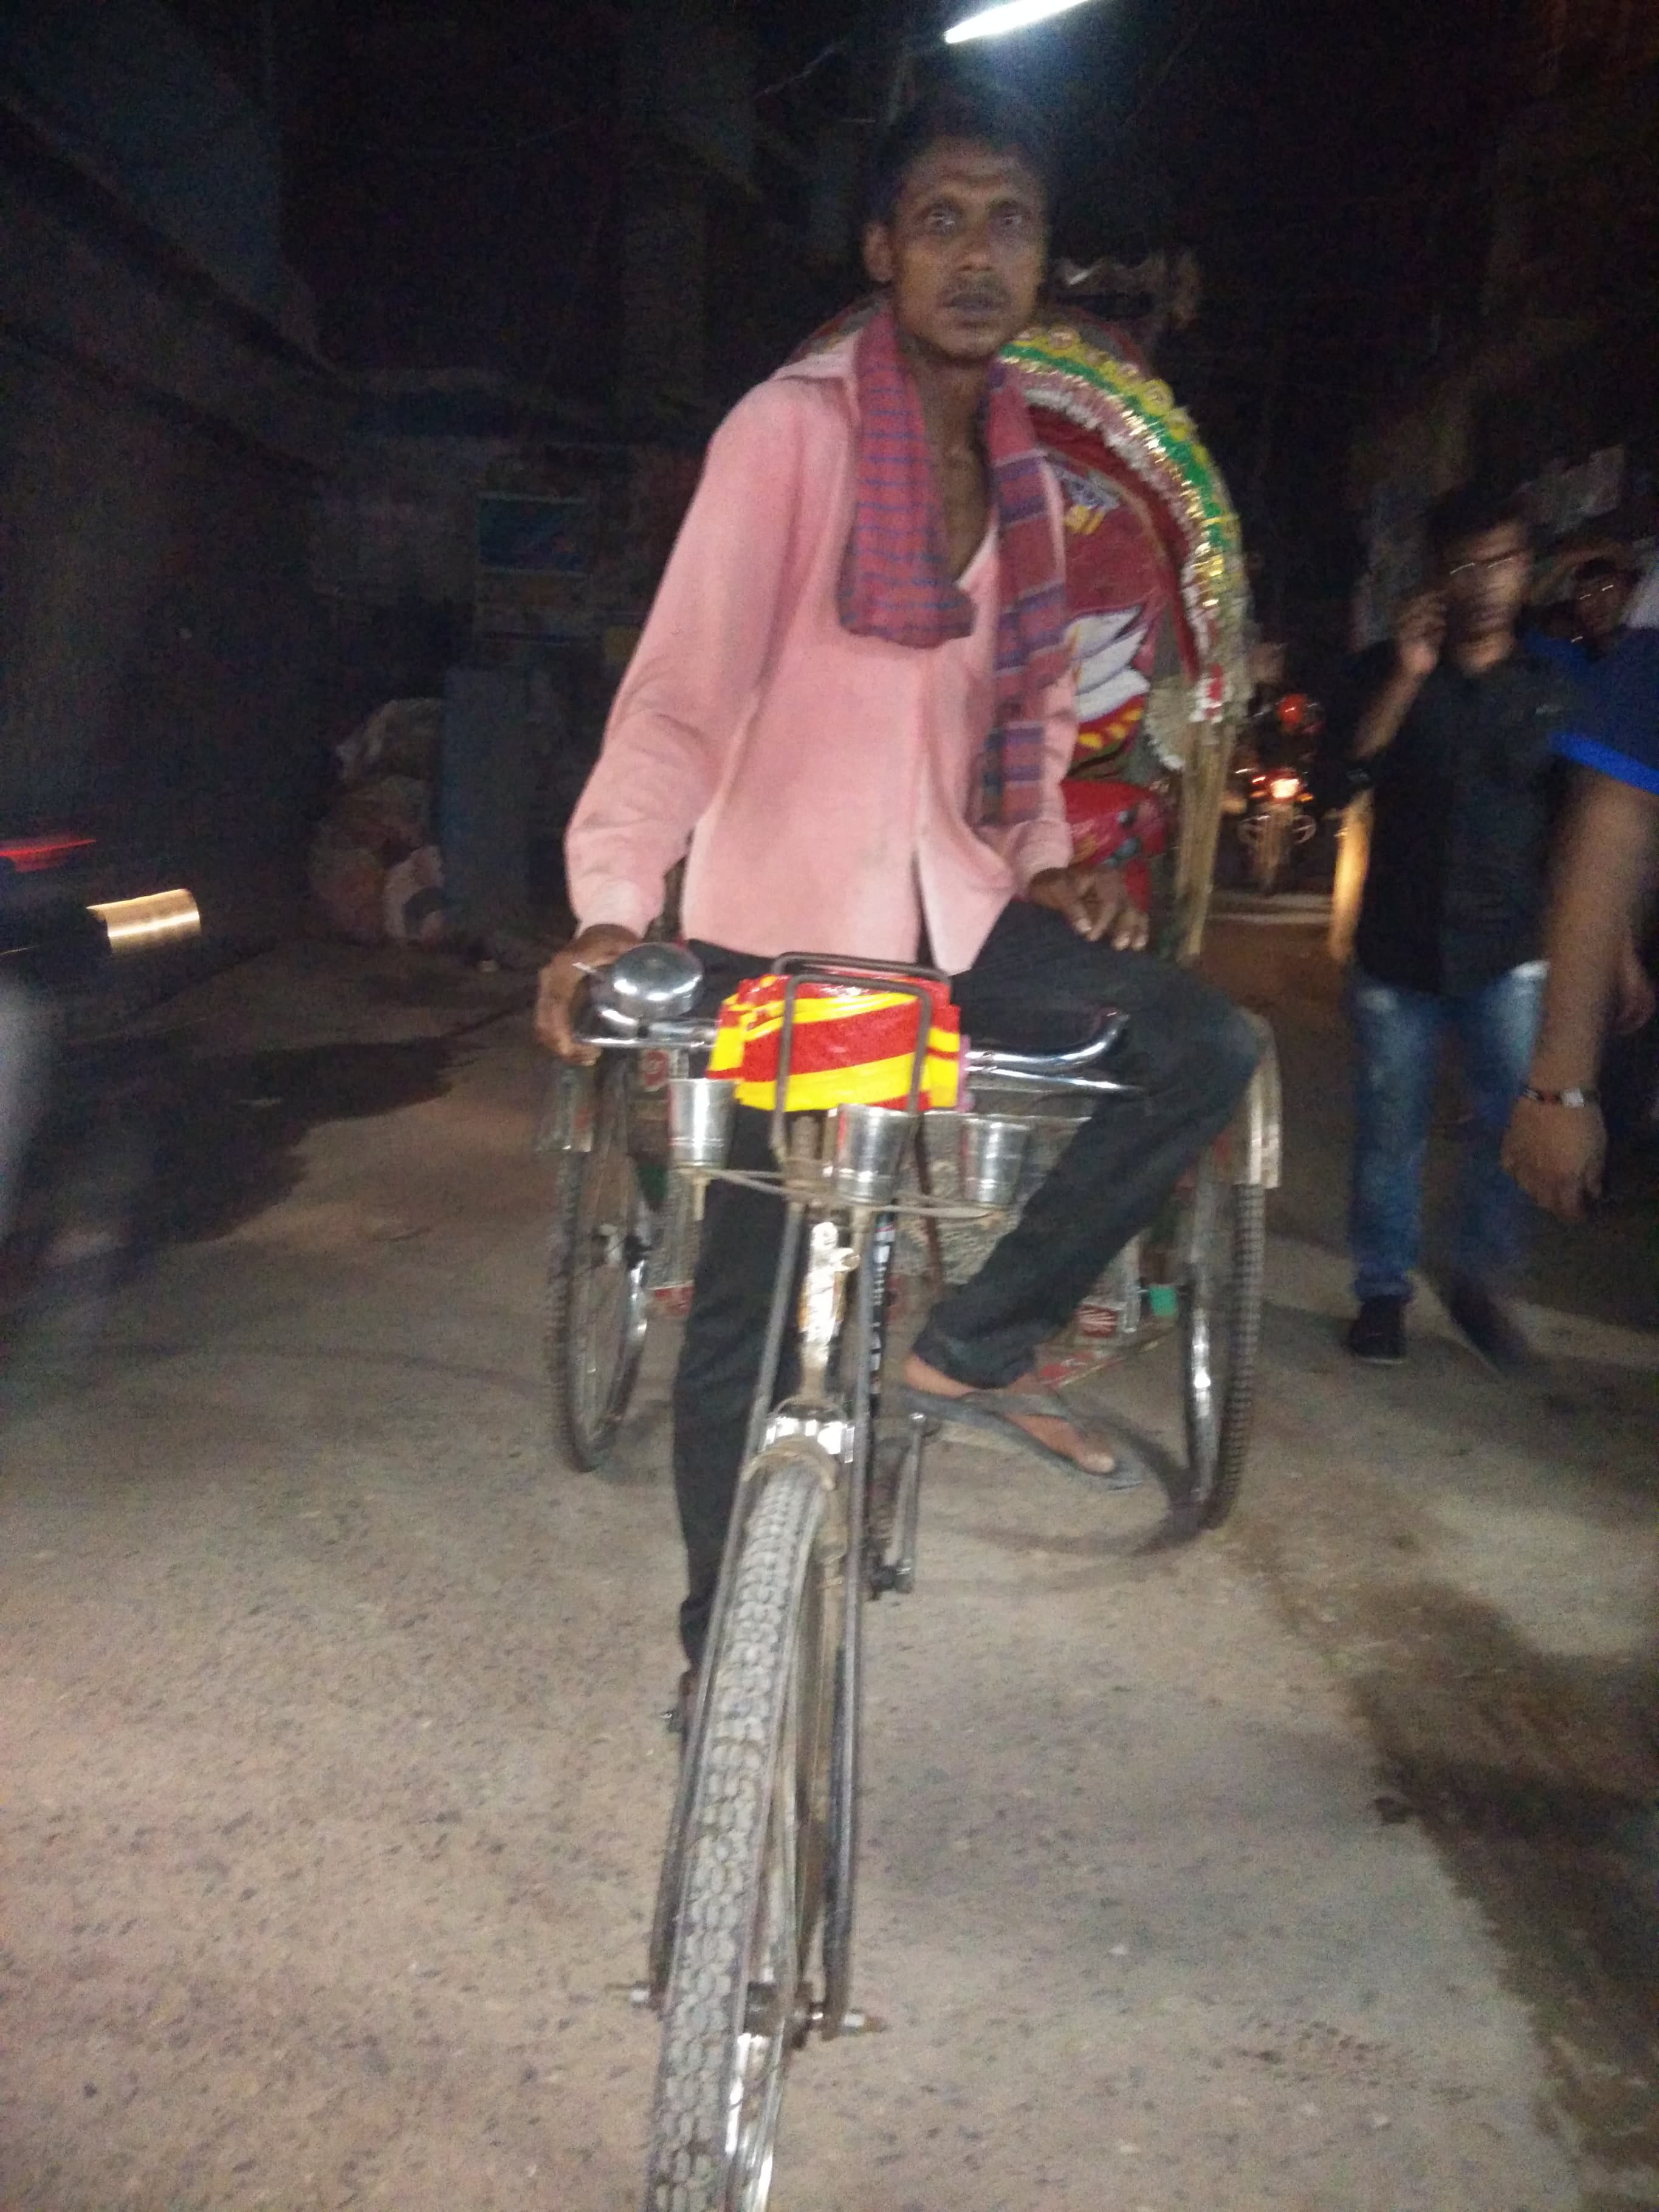Rickshaw: (518, 206, 1314, 2069)
